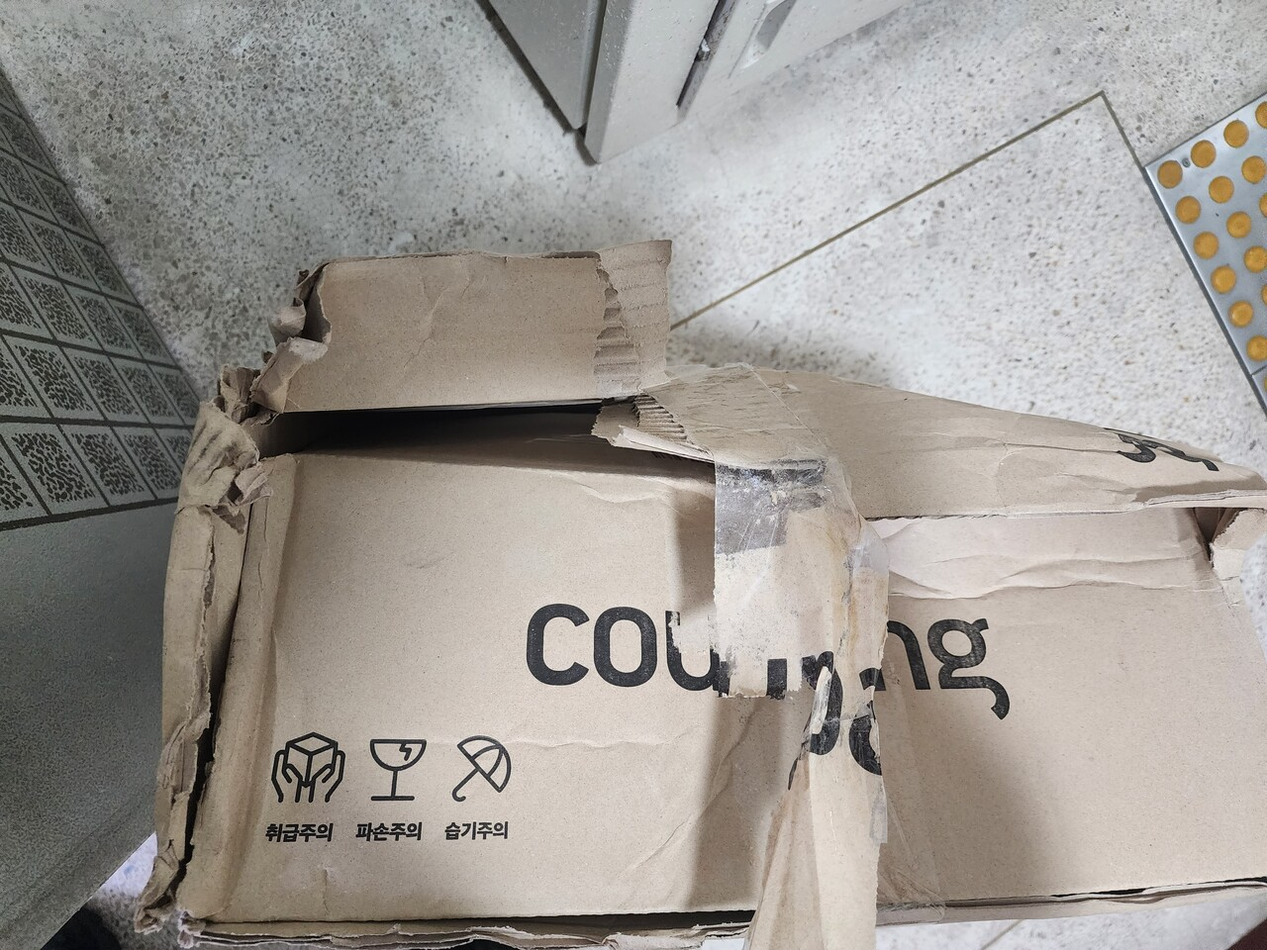damaged package: (207, 256, 835, 486), (143, 478, 255, 922)
